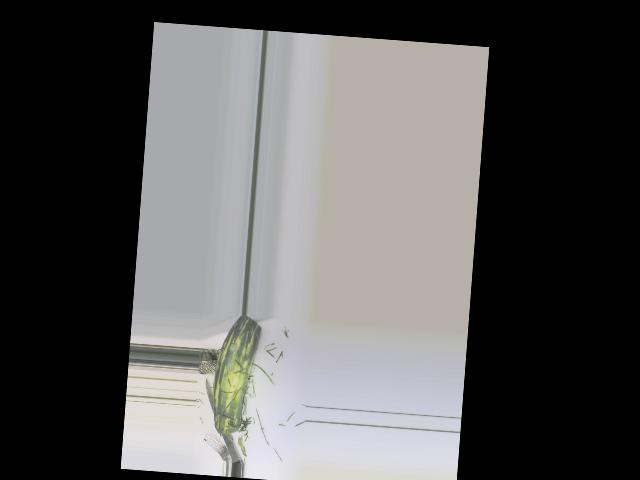cucumber: (210, 314, 262, 437)
